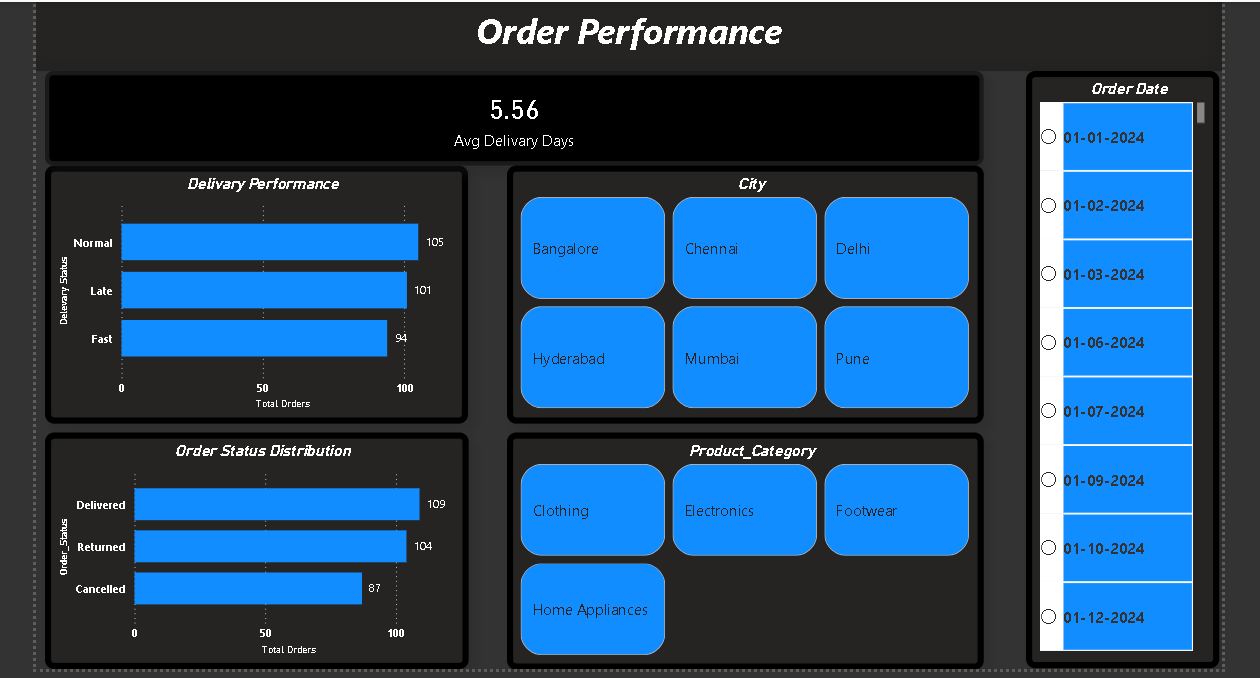

The dashboard page shown, as its layout file describes it:
{"tool":"powerbi","page":{"name":"Page 3","canvas":[1280,720],"ordinal":2},"visuals":[{"type":"textbox","box":[0,0,1280.8,74.5],"z":0},{"type":"clusteredBarChart","title":"Delivary Performance","fields":{"Category":["Ecommerce_Data.Delevary Status"],"Y":["Ecommerce_Data.Total Orders"]},"box":[9.7,176.5,456.6,278.5],"z":1000},{"type":"card","fields":{"Values":["Ecommerce_Data.Avg Delivary Days"]},"box":[9.7,74.5,1013.6,102],"z":2000},{"type":"clusteredBarChart","title":"Order Status Distribution","fields":{"Category":["Ecommerce_Data.Order_Status"],"Y":["Ecommerce_Data.Total Orders"]},"box":[10,465,457,255],"z":3000},{"type":"listSlicer","title":"Order Date","fields":{"Values":["Ecommerce_Data.Order_Date"]},"box":[1068.7,74.5,208.9,644.5],"z":4000},{"type":"advancedSlicerVisual","fields":{"Values":["Ecommerce_Data.City"]},"box":[508.4,176.5,514.9,278.5],"z":5000},{"type":"advancedSlicerVisual","fields":{"Values":["Ecommerce_Data.Product_Category"]},"box":[508.4,464.7,514.9,255.8],"z":6000}]}

Visuals, with their boxes on the page's 1280x720 design canvas (x1, y1, x2, y2). These are canvas units, not pixel positions in the 1260x678 screenshot, which may show the page scaled, cropped or inside an application window:
textbox: <region>0, 0, 1281, 74</region>
"Delivary Performance" clusteredBarChart: <region>10, 176, 466, 455</region>
card - Ecommerce_Data.Avg Delivary Days: <region>10, 74, 1023, 176</region>
"Order Status Distribution" clusteredBarChart: <region>10, 465, 467, 720</region>
"Order Date" listSlicer: <region>1069, 74, 1278, 719</region>
advancedSlicerVisual - Ecommerce_Data.City: <region>508, 176, 1023, 455</region>
advancedSlicerVisual - Ecommerce_Data.Product_Category: <region>508, 465, 1023, 720</region>
